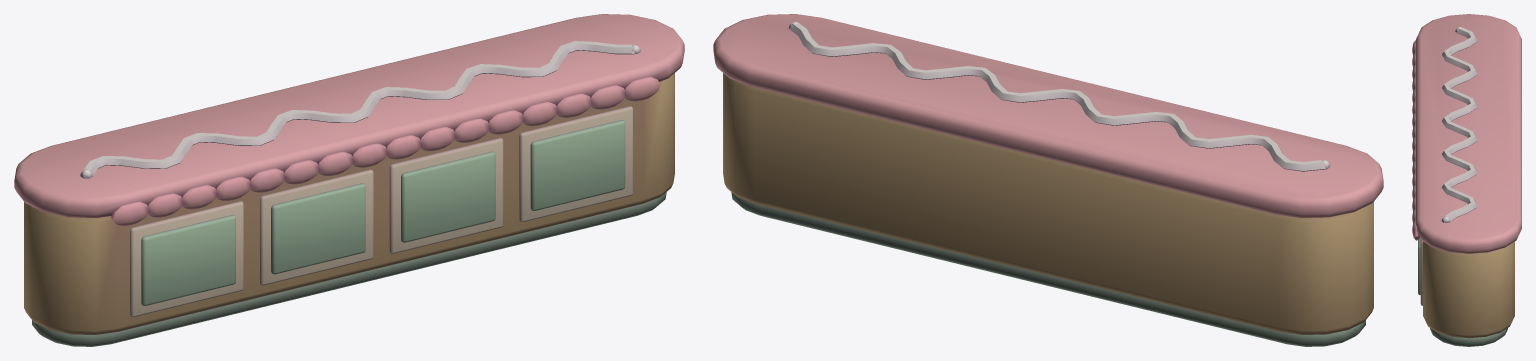
Rendered from counter_patisserie.glb.
3 views of the same model, side by side, from view 1: azimuth 30°, elevation 25°; view 2: azimuth 150°, elevation 25°; view 3: azimuth 270°, elevation 25° (orthographic). The views are drawn at different scales.
Visible parts, largest first — view 1: counter_patisserie; view 2: counter_patisserie; view 3: counter_patisserie.
Part boxes in pixels (x1,y1,x2,y2): counter_patisserie: [14, 14, 684, 346]; counter_patisserie: [713, 14, 1383, 346]; counter_patisserie: [1412, 14, 1521, 346].
Size of the model in its own units: 4.72 by 1.12 by 0.9547.
